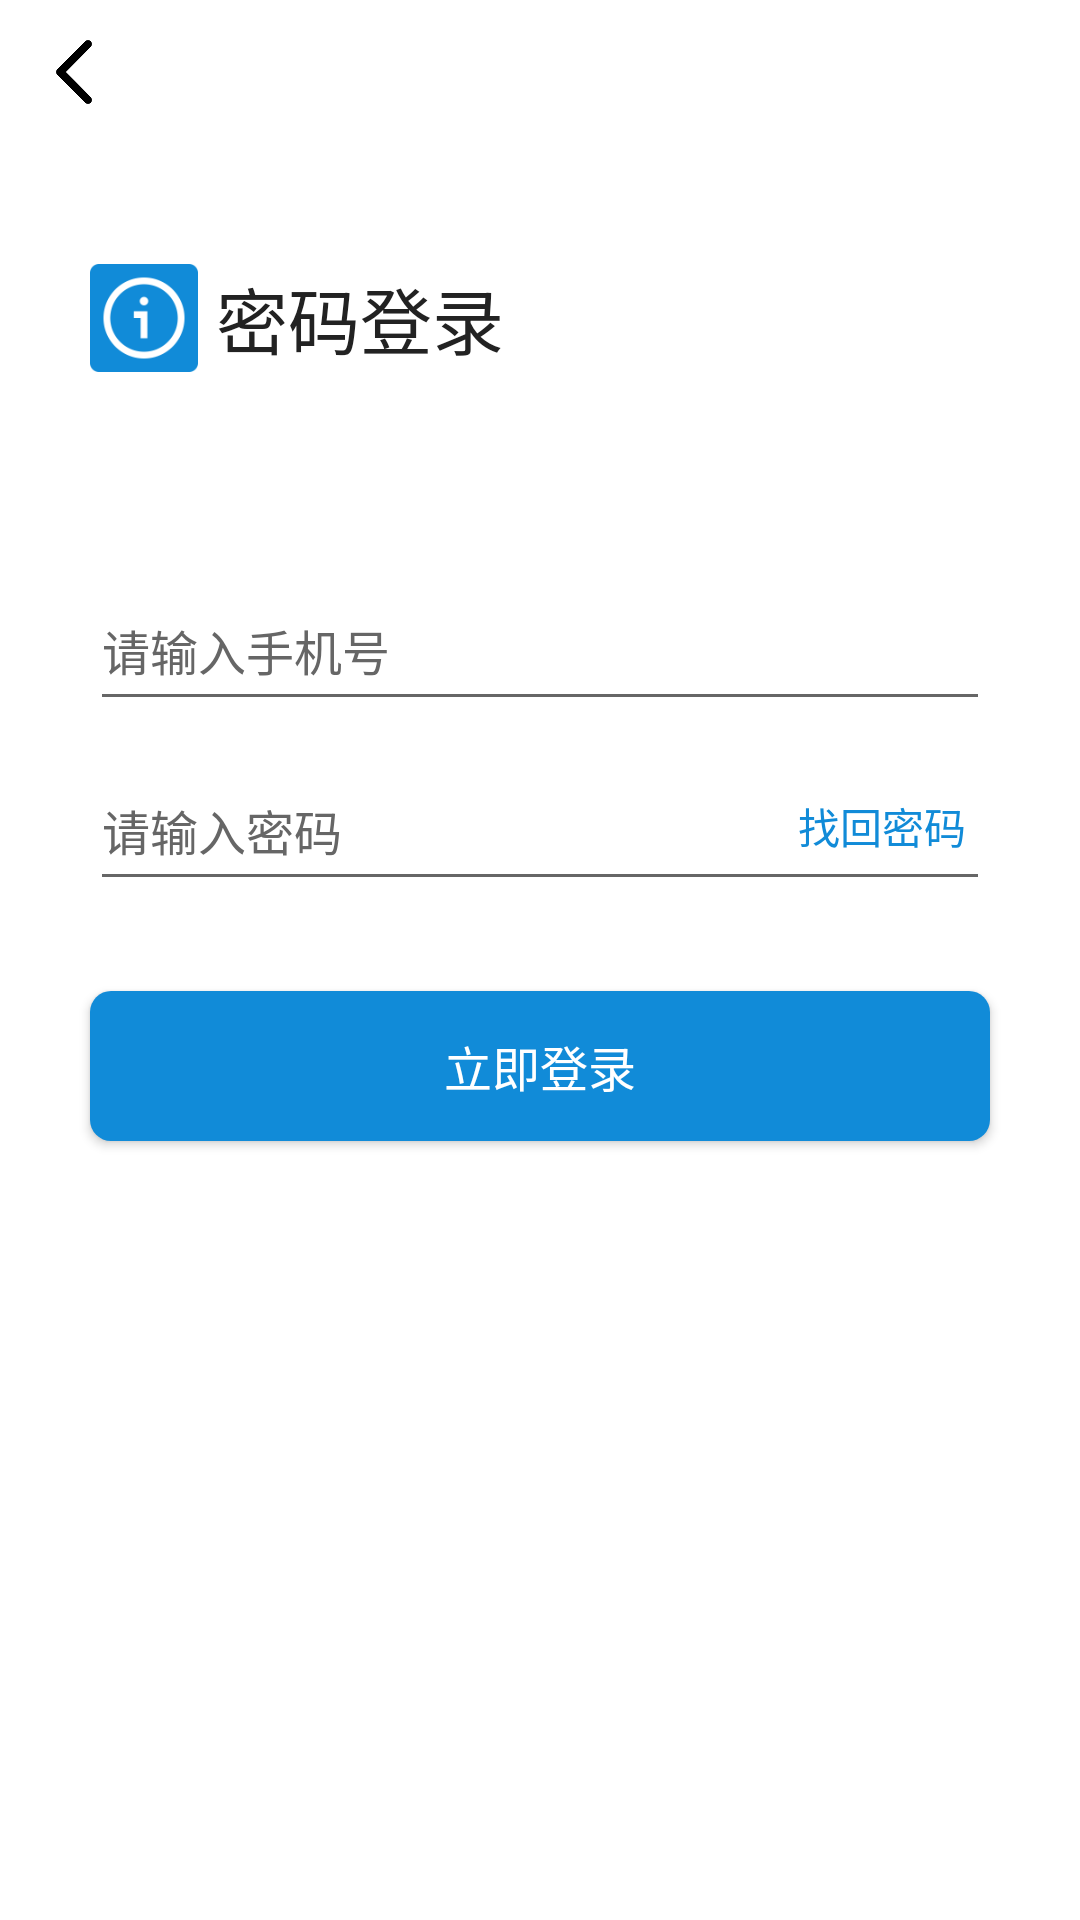

Screen size 1080w x 1920h. Icon name, then its center in pixels as (x=x, y=y):
back: (x=74, y=72)
